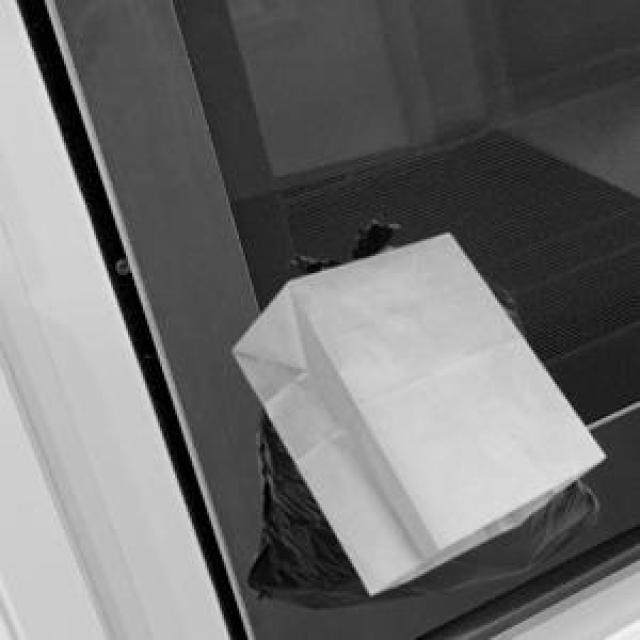miscellaneous trash: (245, 211, 593, 606)
paper: (228, 230, 600, 591)
